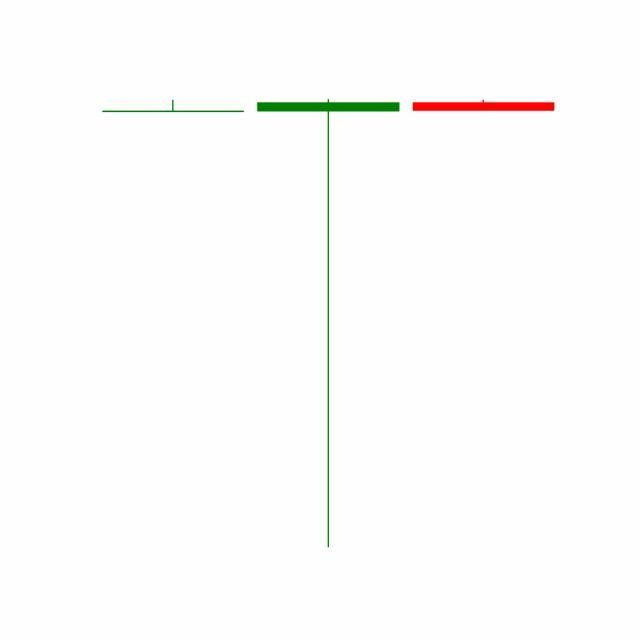Marubozu: (406, 100, 562, 112)
